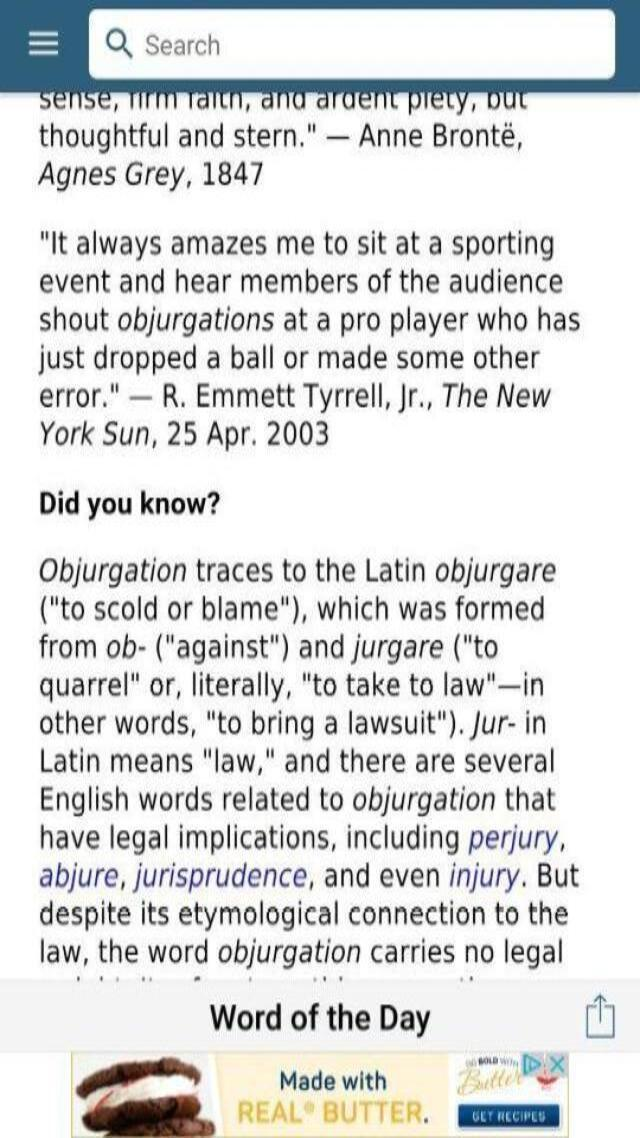Icon: (573, 988, 625, 1048)
Image: (72, 1056, 212, 1138), (446, 1053, 569, 1137)
Text: (29, 931, 572, 975), (34, 550, 569, 589), (32, 818, 576, 856), (34, 859, 584, 896), (33, 226, 560, 263), (33, 301, 590, 336), (28, 340, 550, 375), (32, 628, 512, 666), (25, 378, 559, 412), (37, 264, 570, 298), (30, 707, 554, 741), (28, 745, 567, 778), (30, 898, 583, 930), (35, 592, 553, 626), (30, 784, 560, 817), (37, 669, 551, 703), (35, 121, 528, 154), (34, 86, 536, 117), (28, 419, 341, 452), (193, 1000, 444, 1040), (31, 157, 270, 194), (38, 488, 226, 520), (144, 33, 223, 62)
TextButton: (59, 1054, 569, 1138)
